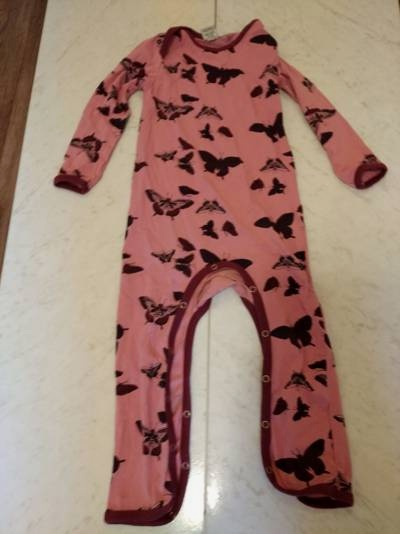Body: (52, 5, 380, 519)
